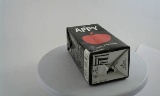appy: (61, 23, 122, 87)
